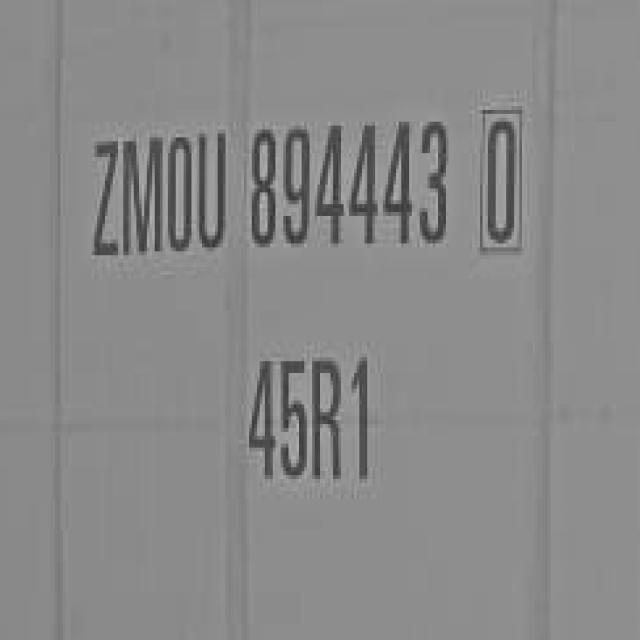dv: (474, 99, 533, 261)
owner: (81, 113, 234, 274)
serial: (246, 109, 455, 270)
size: (234, 342, 386, 498)
